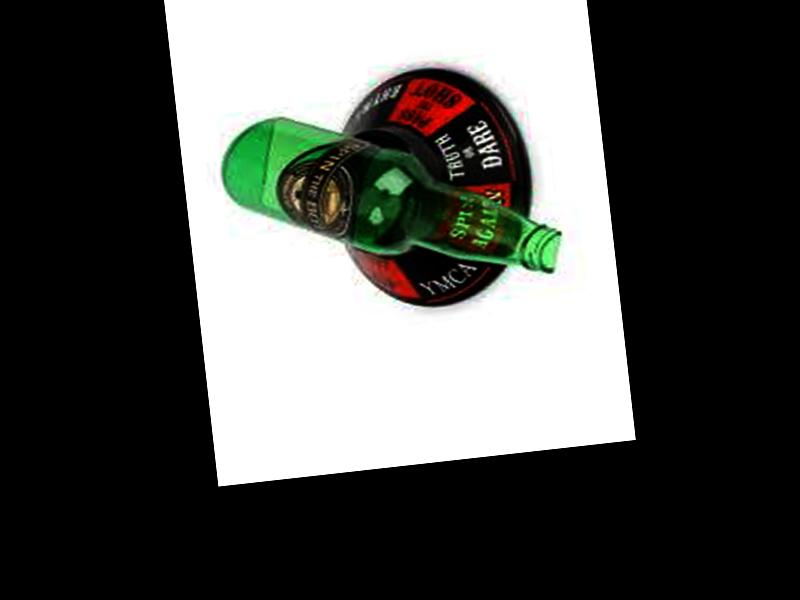Beer: (217, 85, 565, 305)
